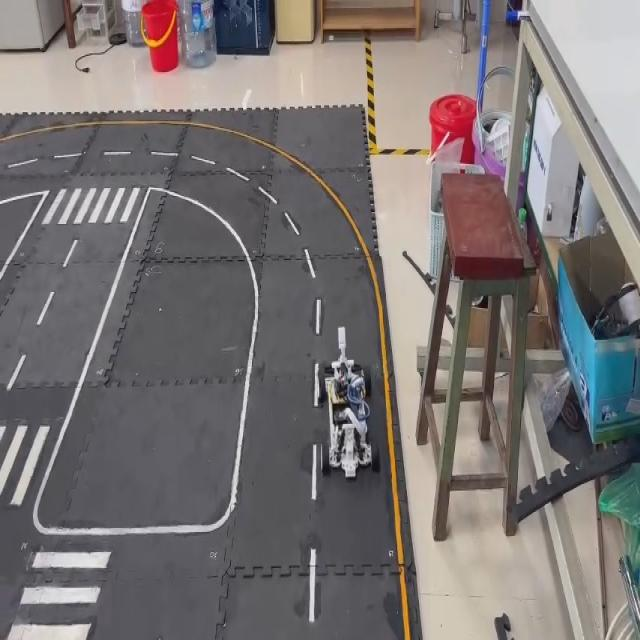SiCo-CAR: (312, 324, 374, 483)
